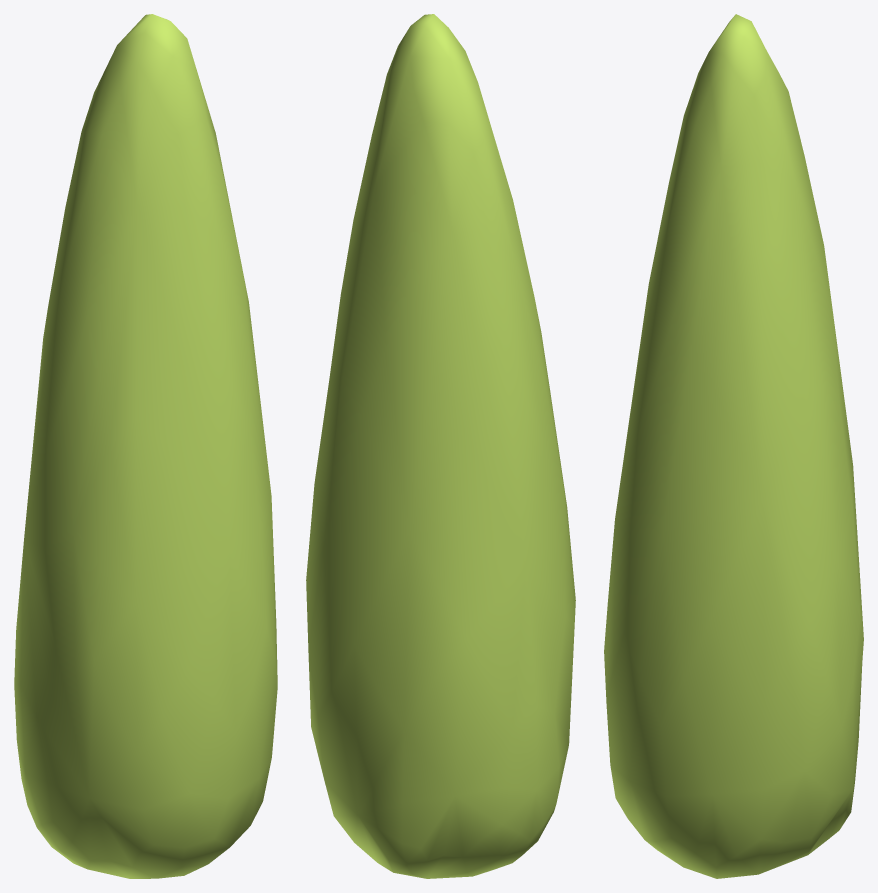
The model's file is BushTree_I.fbx.
3 renders of one model, left to right at view 1: azimuth 30°, elevation 25°; view 2: azimuth 150°, elevation 25°; view 3: azimuth 270°, elevation 25°, orthographic.
Visible parts, largest first — view 1: Thuja_BushTree_m_01; view 2: Thuja_BushTree_m_01; view 3: Thuja_BushTree_m_01.
Boxes of the visible parts, <box> form: Thuja_BushTree_m_01: <box>14,14,277,878</box>; Thuja_BushTree_m_01: <box>306,14,575,878</box>; Thuja_BushTree_m_01: <box>604,14,863,878</box>.
Bounding box in the file's own units: 90.97 × 329 × 90.93.
